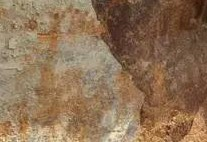Corrosion: (90, 1, 207, 142)
